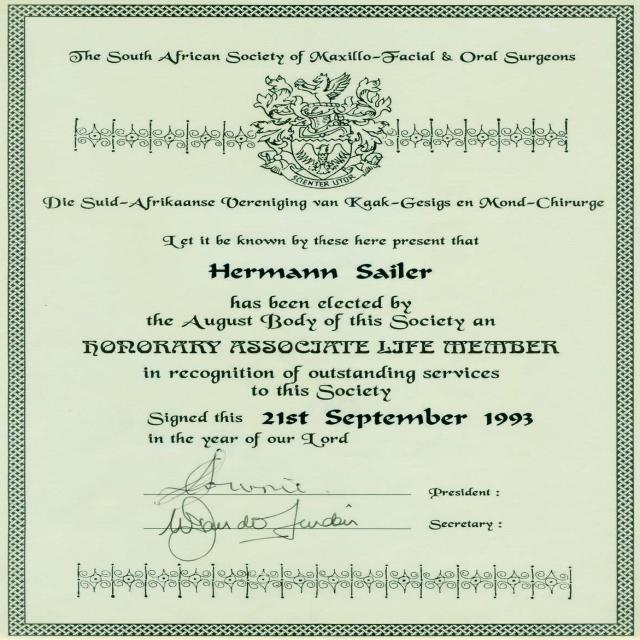signature: (162, 496, 362, 564), (152, 446, 307, 498)
